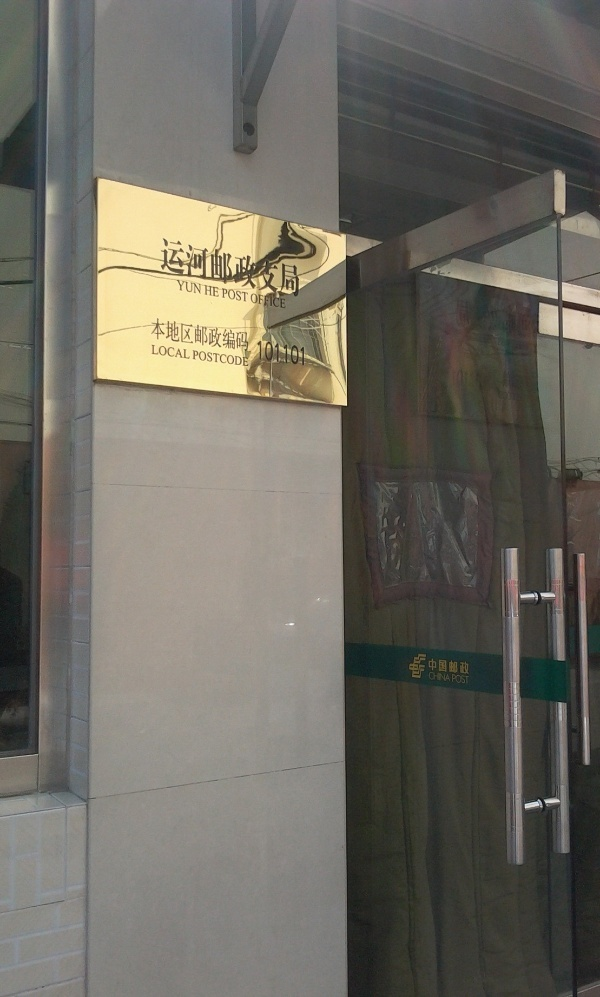text: (177, 238, 192, 298), (193, 238, 208, 298), (209, 238, 224, 298), (225, 238, 240, 298), (241, 238, 256, 298), (257, 238, 272, 298), (273, 238, 288, 298), (289, 238, 304, 298), (163, 238, 176, 298), (161, 318, 176, 353), (177, 318, 192, 353), (193, 318, 208, 353), (209, 318, 224, 353), (225, 318, 240, 353), (257, 340, 272, 367), (273, 340, 288, 367), (289, 340, 304, 367), (149, 318, 160, 353), (241, 318, 251, 353), (433, 657, 448, 675), (449, 657, 464, 675), (193, 349, 208, 367), (209, 349, 224, 367), (225, 349, 240, 367), (257, 293, 272, 310), (273, 293, 288, 310), (161, 344, 176, 360), (177, 280, 192, 295), (225, 288, 240, 303), (177, 344, 191, 360), (433, 671, 448, 683), (193, 280, 204, 295), (241, 349, 250, 367), (209, 285, 221, 298), (241, 288, 250, 303), (152, 344, 160, 360), (452, 674, 464, 684), (465, 657, 471, 675), (428, 657, 432, 675), (252, 293, 256, 310), (305, 238, 306, 298), (305, 340, 307, 367), (465, 674, 469, 684), (429, 671, 432, 683), (206, 285, 208, 298), (449, 671, 451, 683), (223, 288, 224, 303)
